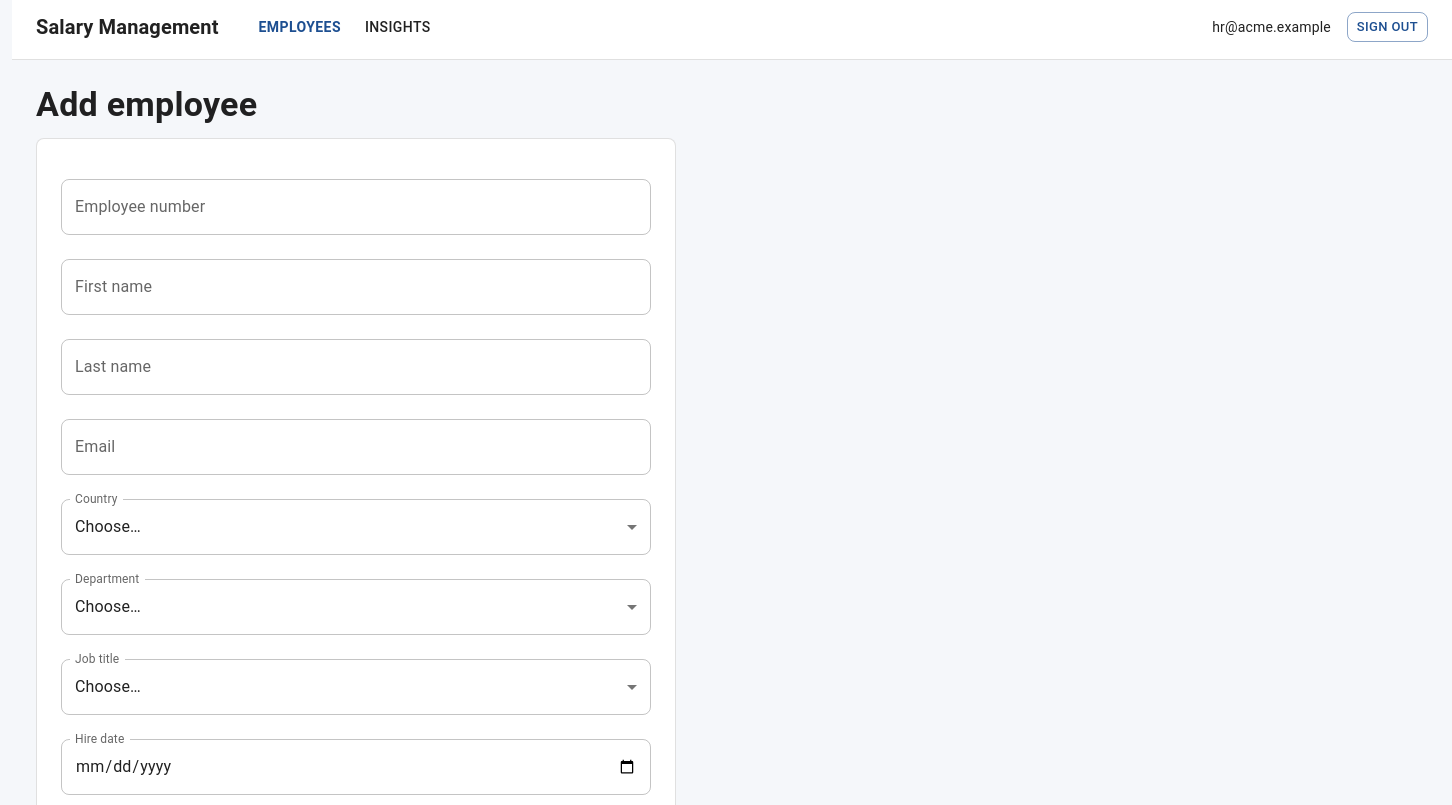
Scenario: adding an employee › says which currency the salary will be in, once a country is chosen
Select "India" in the dropdown labelled "Country" at (356, 527), box [61,499,651,555]
(page scrolled)
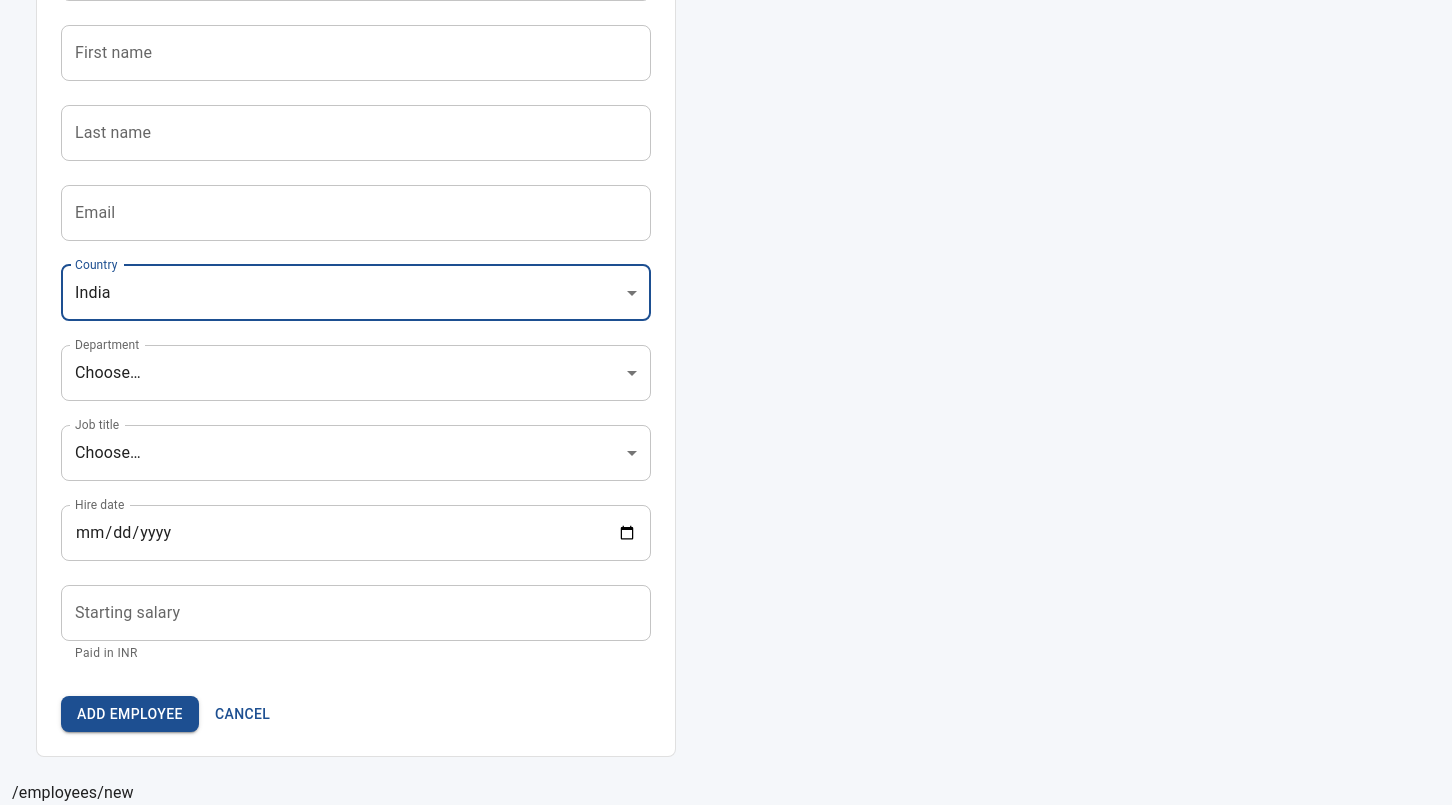
Expected: the text "Paid in INR" is shown, [75,646,138,660]
